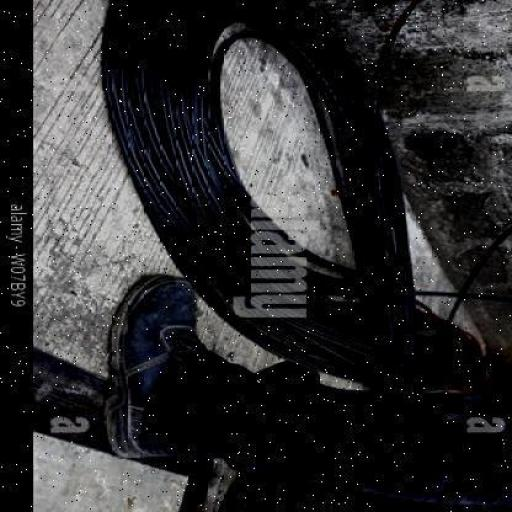safety_shoe: (100, 272, 212, 457)
